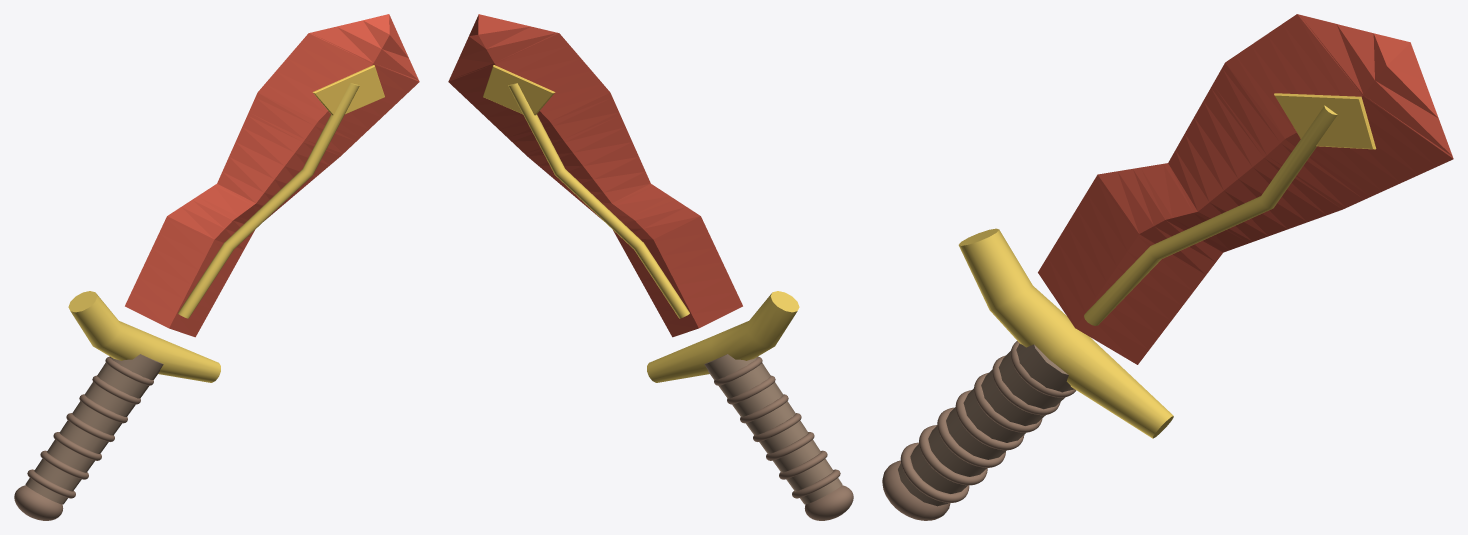
Rendered from tyrfing.glb.
The picture shows the model from 3 angles, left to right: view 1: azimuth 30°, elevation 25°; view 2: azimuth 150°, elevation 25°; view 3: azimuth 330°, elevation 25°; orthographic projection. The views are drawn at different scales.
Size of the model in its own units: 28 by 28 by 3.15.
